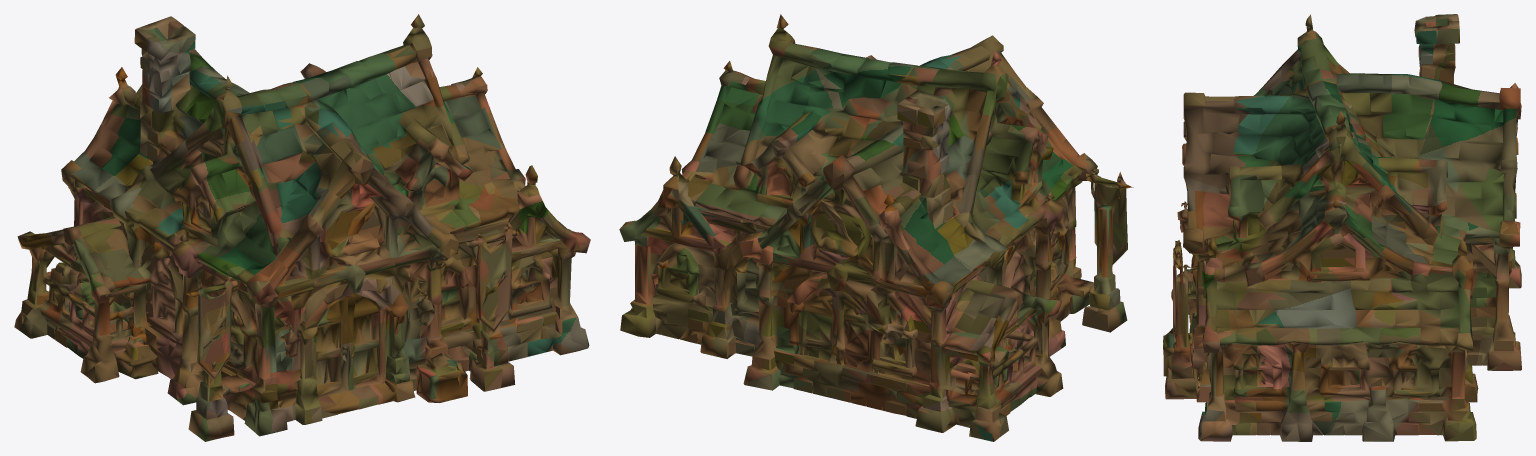
The model's file is post-office.glb.
3 renders of one model, left to right at view 1: azimuth 30°, elevation 25°; view 2: azimuth 150°, elevation 25°; view 3: azimuth 270°, elevation 25°, orthographic. The views are drawn at different scales.
Parts seen in each view (by area): view 1: Scribe_Building_Export; view 2: Scribe_Building_Export; view 3: Scribe_Building_Export.
Part boxes in pixels (left/top/right/bottom): Scribe_Building_Export: left=14, top=14, right=590, bottom=441; Scribe_Building_Export: left=619, top=14, right=1133, bottom=441; Scribe_Building_Export: left=1163, top=14, right=1521, bottom=441.
Size of the model in its own units: 0.9804 by 0.6924 by 0.7782.
Materials: 1 (1 with a texture image).
